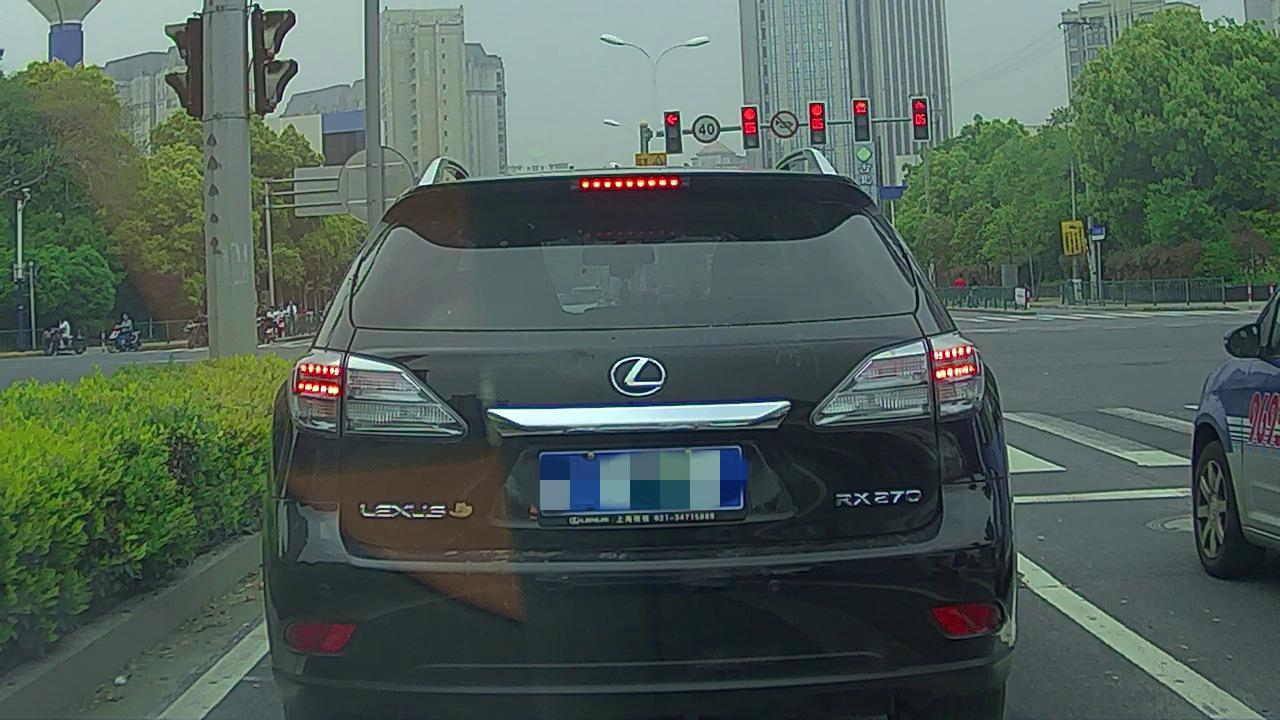traffic_light: (741, 105, 759, 149), (912, 98, 930, 140), (664, 110, 681, 154), (809, 101, 825, 145), (854, 98, 870, 142)
